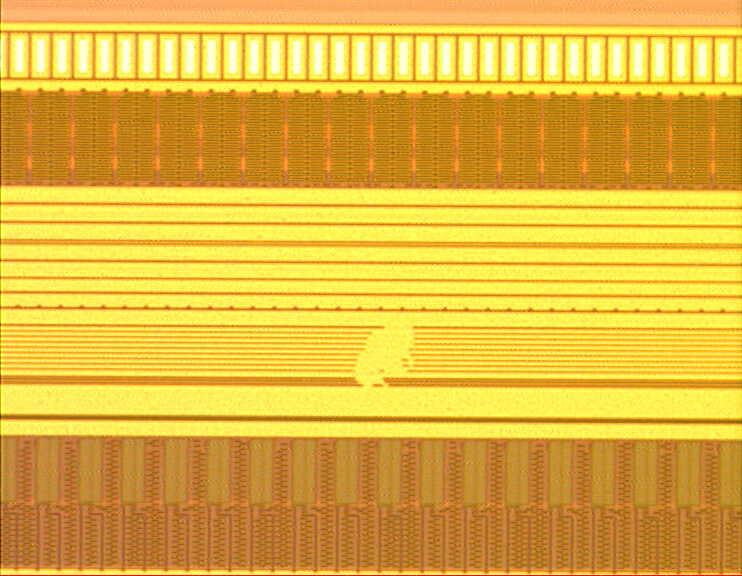BLOCK ETCH: (349, 307, 423, 395)
